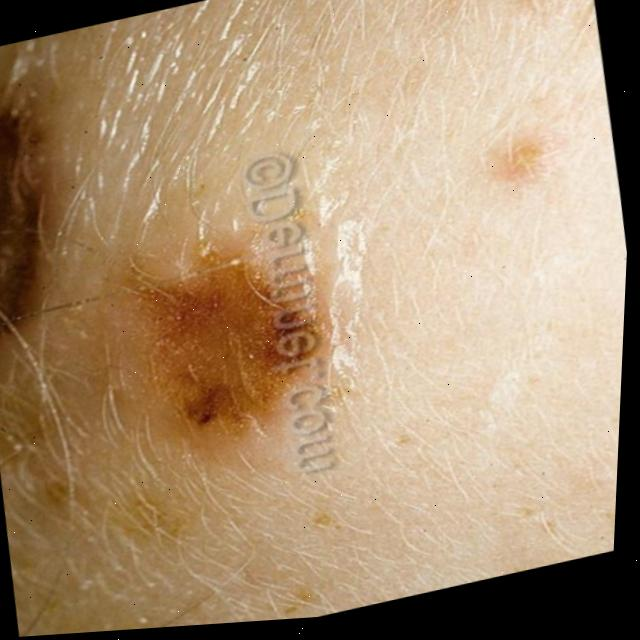Eczema: (0, 52, 331, 475)
